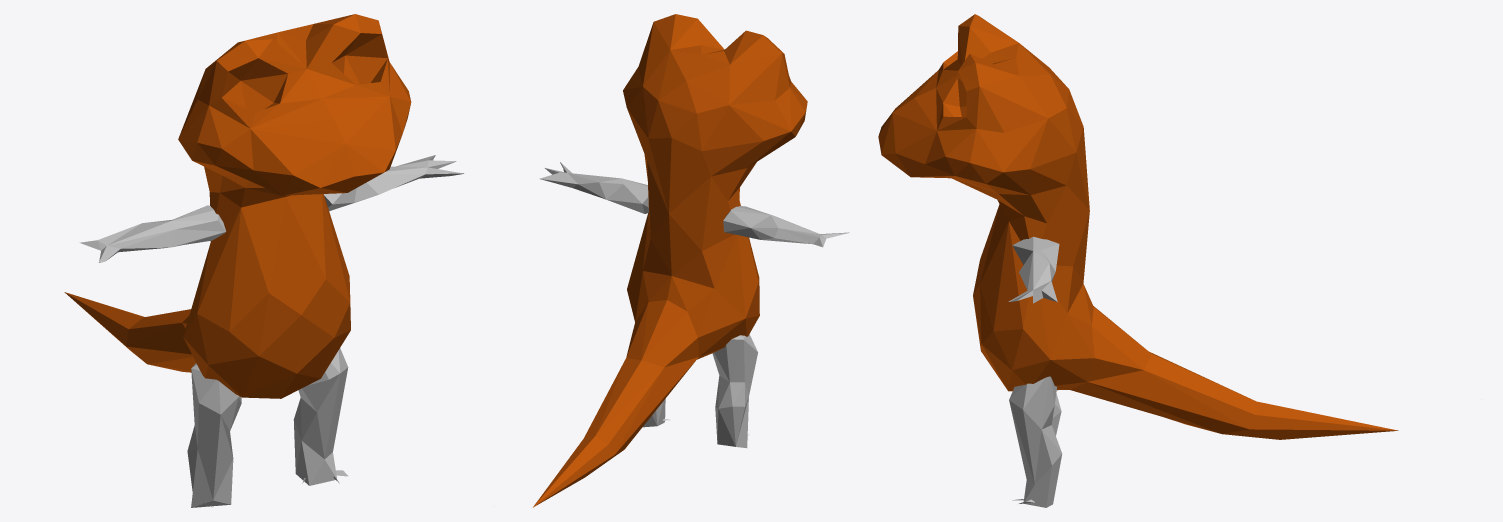
The model's file is mdr_lezard.fbx.
The picture shows the model from 3 angles, left to right: view 1: azimuth 30°, elevation 25°; view 2: azimuth 150°, elevation 25°; view 3: azimuth 270°, elevation 25°; orthographic projection. The views are drawn at different scales.
Parts seen in each view (by area): view 1: lowpoly_lezard; view 2: lowpoly_lezard; view 3: lowpoly_lezard.
Part boxes in pixels (x1,y1,x2,y2): lowpoly_lezard: (64,14,463,507); lowpoly_lezard: (533,14,849,507); lowpoly_lezard: (878,14,1398,507).
Bounding box in the file's own units: 117 × 148 × 186.
